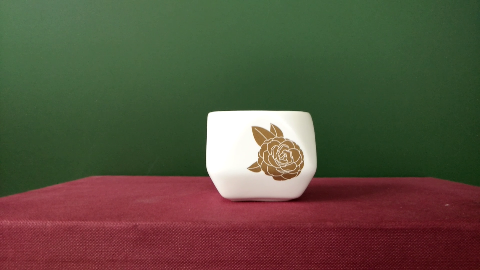flower: (242, 119, 305, 181)
